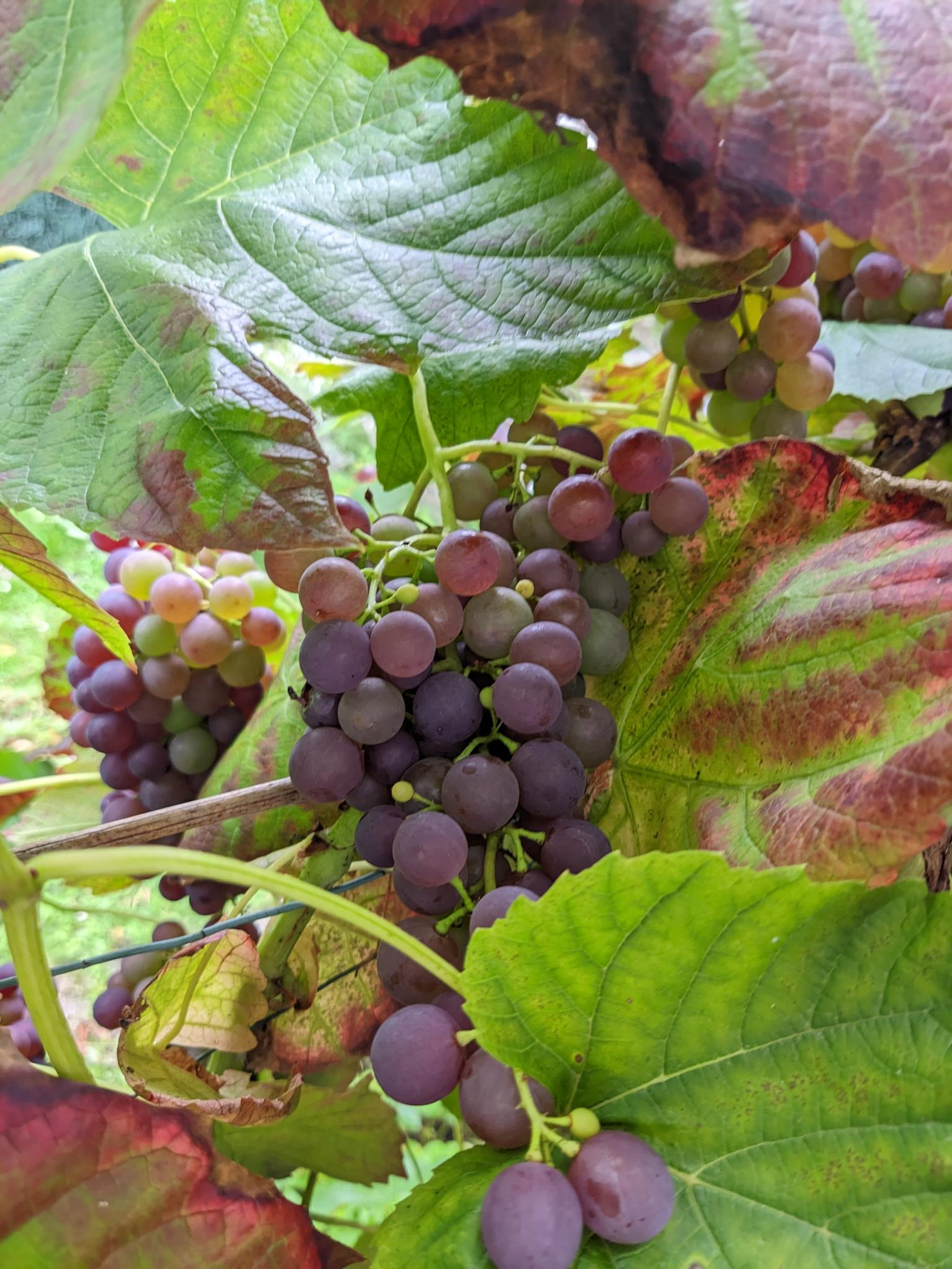Grape Ripe: (356, 459, 628, 970), (372, 944, 531, 1149), (485, 1130, 671, 1269), (610, 434, 706, 554)
Grape Unripe: (68, 543, 286, 815)
